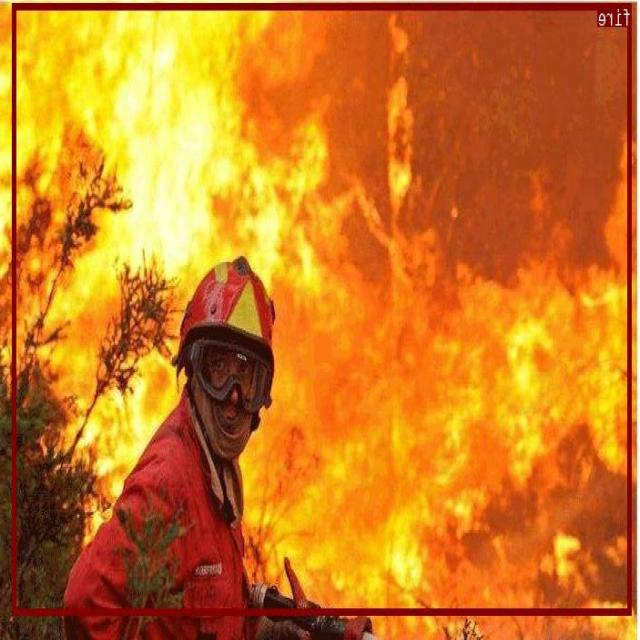fire: (13, 3, 633, 614)
